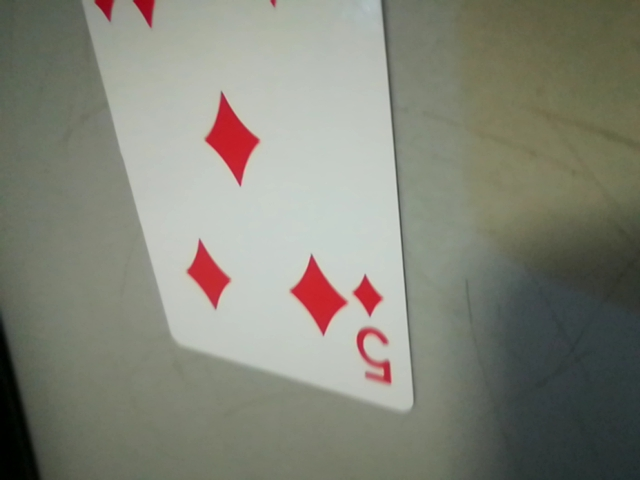fk 5: (341, 264, 404, 398)
